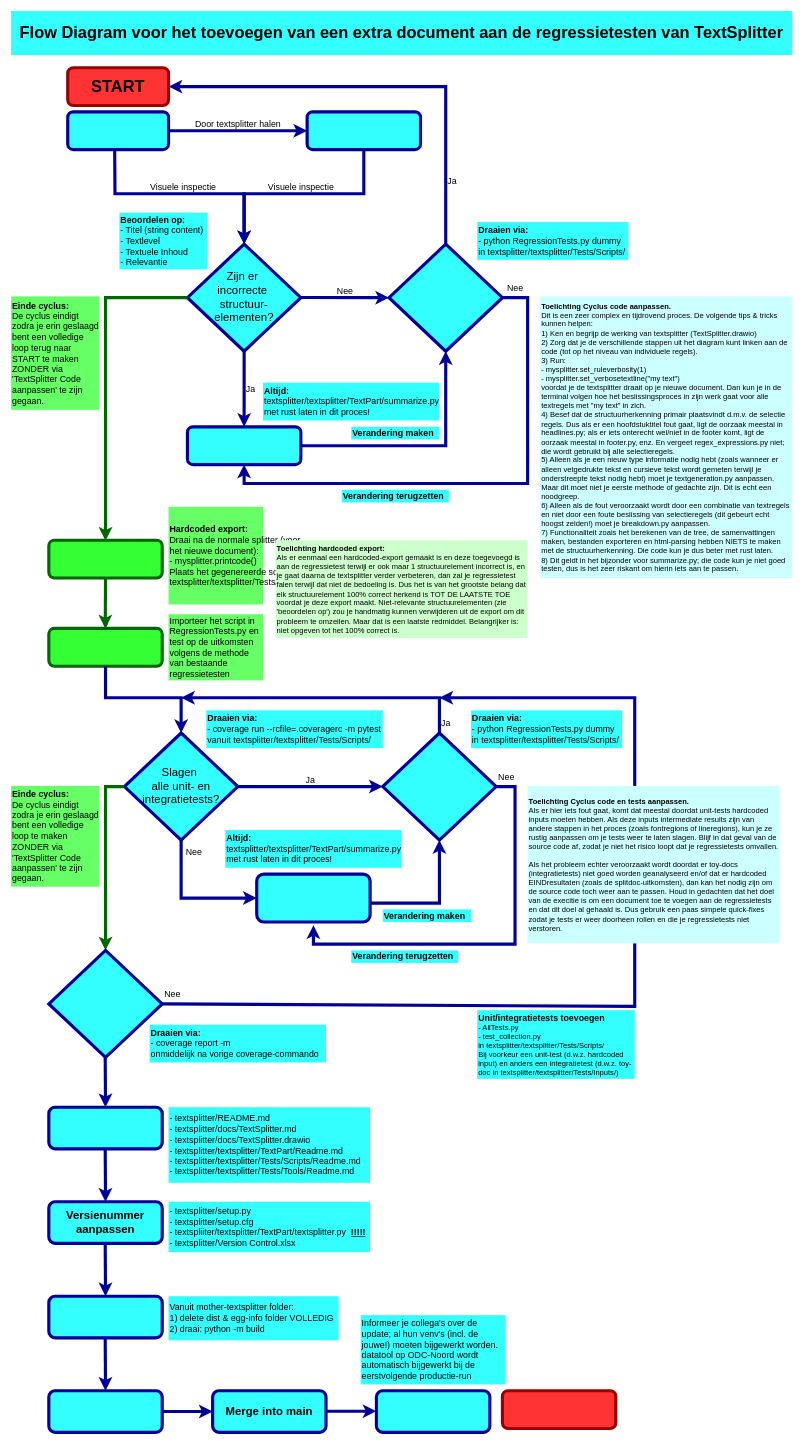
Image size: 803x1445. Some labels were removed from this diagram. Here are the shapes that lost their labels. From the top down, the centre of each, then its label:
At pixel 118 130: "PDF document".
At pixel 363 130: "HTML visualisatie".
At pixel 445 297: "Slagen alle bestaande regressie- testen?".
At pixel 244 445: "TextSplitter Code aanpassen".
At pixel 105 558: "Uitkomsten exporteren".
At pixel 105 647: "Toevoegen aan regressietests".
At pixel 439 786: "Slagen alle bestaande & nieuwe regressie- testen?".
At pixel 313 897: "TextSplitter Code of unit/integratie tests aanpassen".
At pixel 105 1003: "Is er 100% Code coverage?".
At pixel 105 1127: "Documentatie aanpassen".
At pixel 105 1316: "Genereer nieuwe build".
At pixel 105 1411: "Git push".
At pixel 433 1411: "update textsplitter pip install".
At pixel 559 1409: "END".
